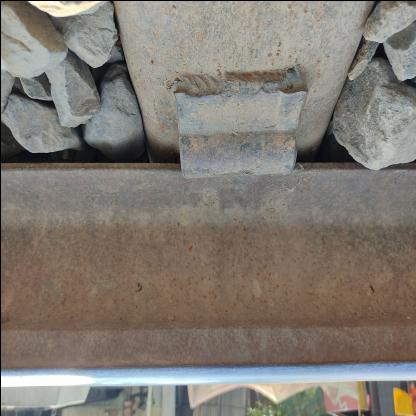Defective: (143, 37, 344, 244)
